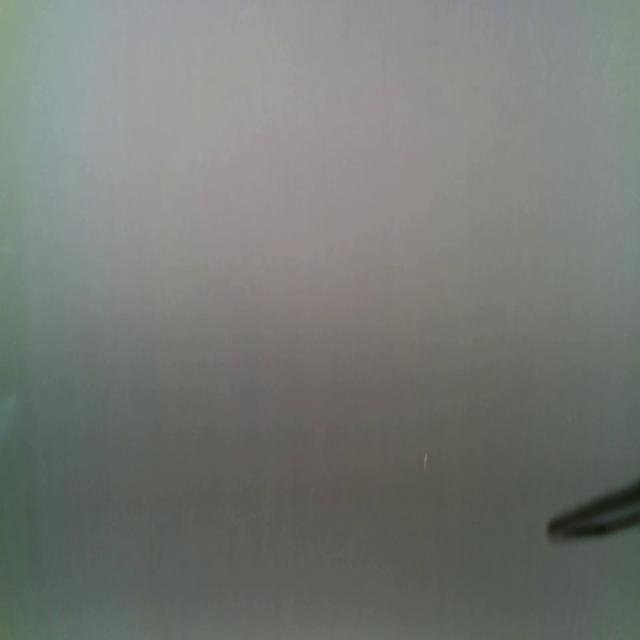hole: (422, 452, 430, 475)
